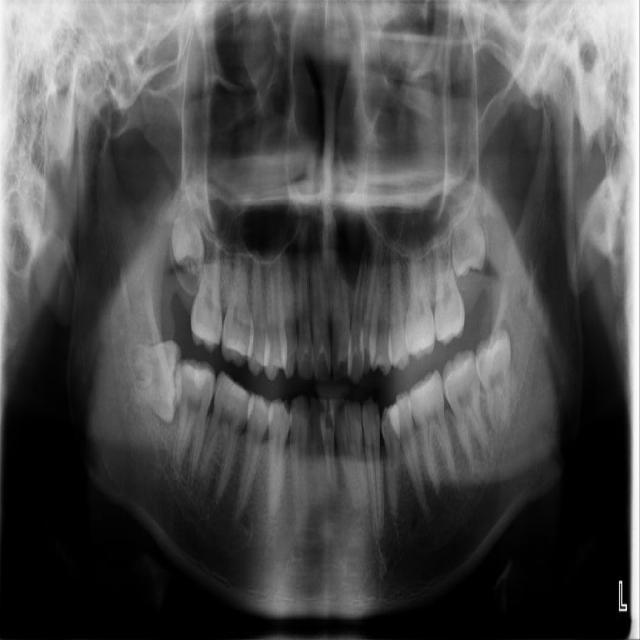3M ESPE Implant: (160, 182, 208, 279)
73: (580, 494, 588, 508)
BioHorizons Implant: (431, 228, 466, 347)
BioLife Implant: (445, 188, 489, 279)
Biomet 3i Implant: (475, 328, 511, 432)
Blue Sky Bio Implant: (438, 346, 490, 472)
Caries: (188, 232, 223, 355)
Implant: (174, 358, 216, 483)
Keystone Dental Implant: (131, 339, 185, 427)
